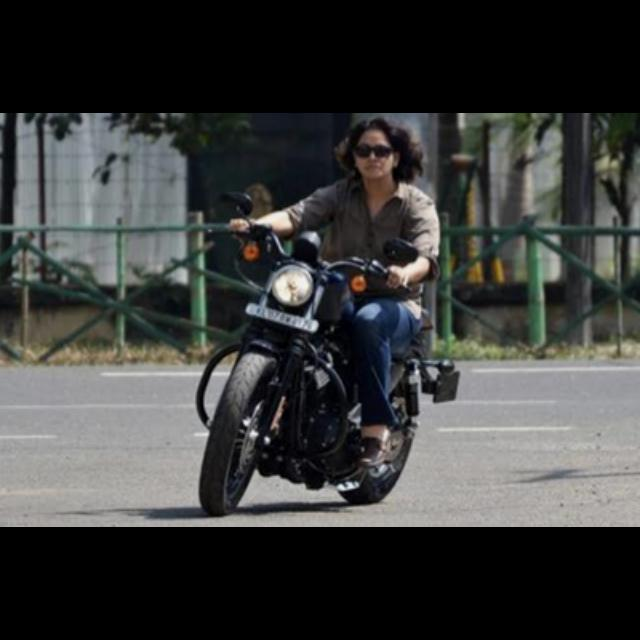Without Helmet: (336, 115, 416, 185)
